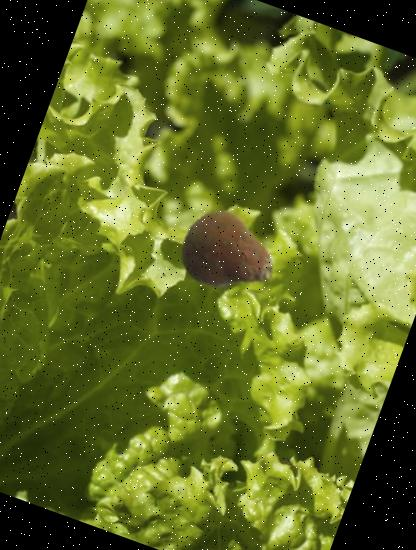Potato: (163, 195, 289, 321)
